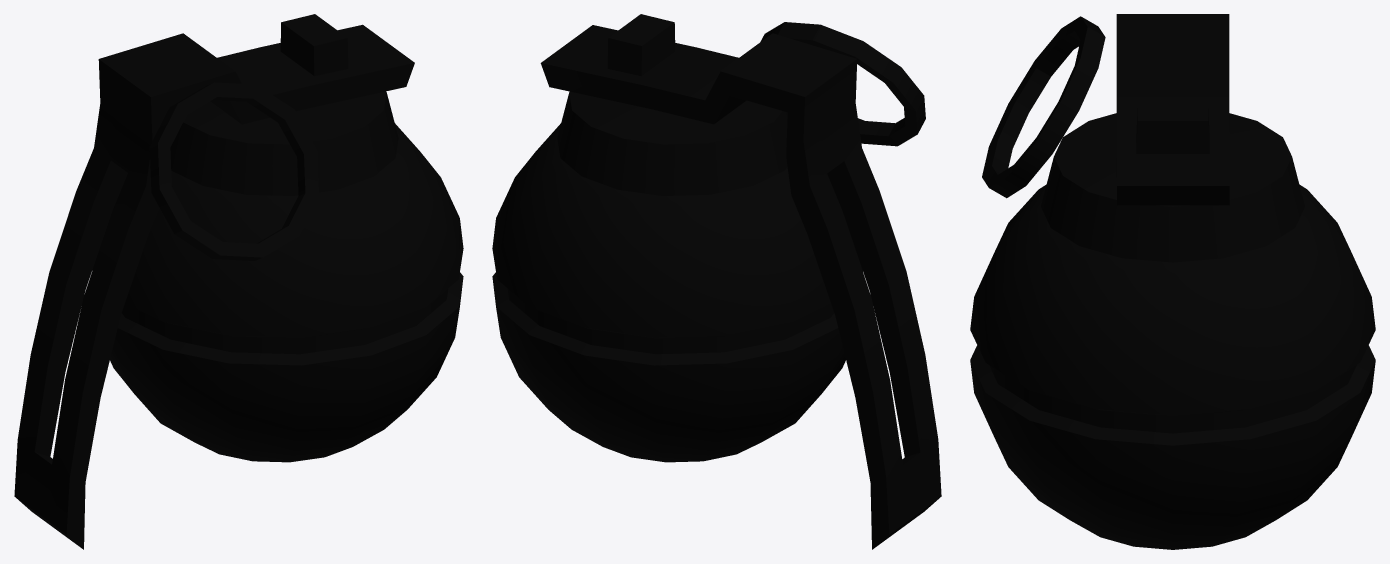
3 views of the same model, side by side, from view 1: azimuth 30°, elevation 25°; view 2: azimuth 150°, elevation 25°; view 3: azimuth 270°, elevation 25° (orthographic). The views are drawn at different scales.
Parts seen in each view (by area): view 1: frag; view 2: frag; view 3: frag.
Part boxes in pixels (<box>): frag: <box>14,14,463,549</box>; frag: <box>492,14,941,549</box>; frag: <box>970,14,1375,549</box>.
Bounding box in the file's own units: 0.1071 × 0.115 × 0.0872.
1 material, 1 textured.
